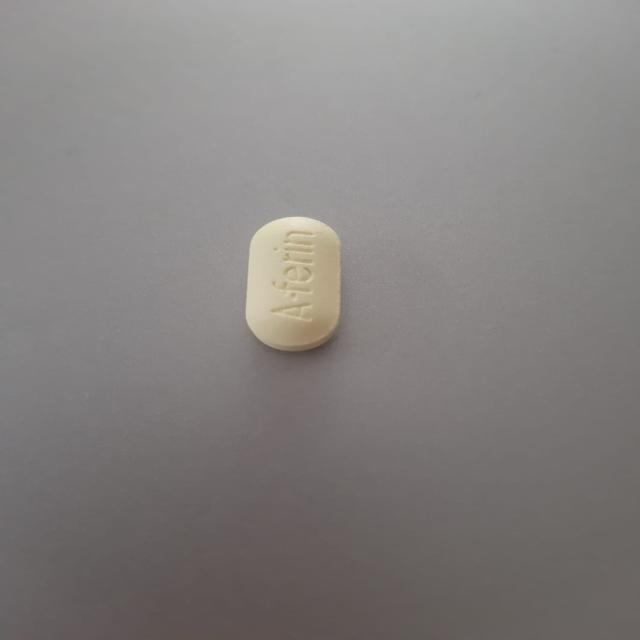pills: (238, 205, 354, 355)
